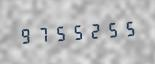five: (51, 21, 67, 44), (68, 20, 84, 43), (102, 18, 118, 41), (119, 17, 135, 39)
nine: (17, 24, 33, 47)
seven: (34, 23, 50, 45)
two: (85, 19, 101, 42)
